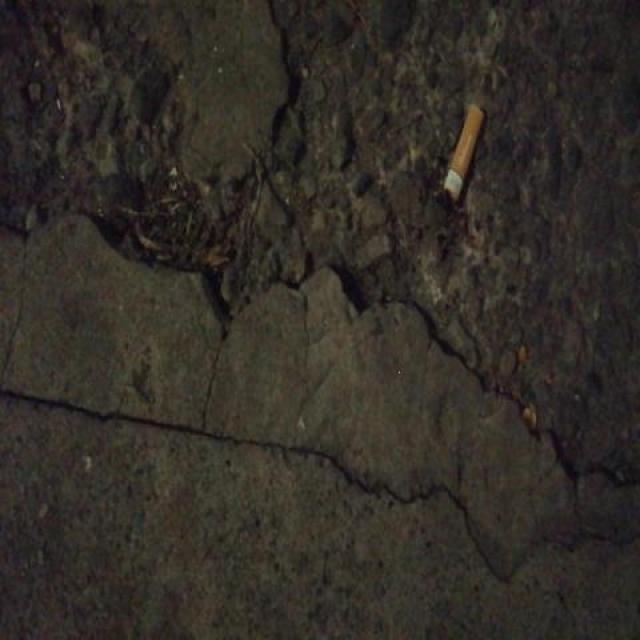non-organic waste: (439, 97, 489, 207)
